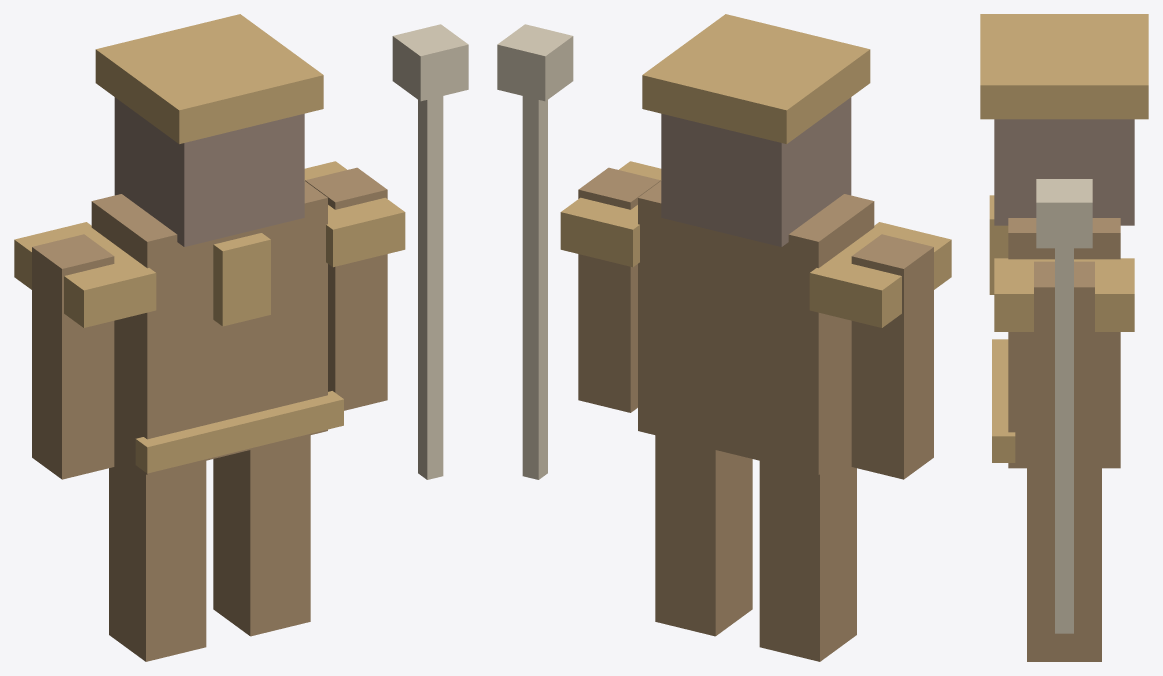
Rendered from 17_vexa_gantryn_tamer_under_scribes.glb.
3 views of the same model, side by side, from view 1: azimuth 30°, elevation 25°; view 2: azimuth 150°, elevation 25°; view 3: azimuth 270°, elevation 25° (orthographic).
Parts seen in each view (by area): view 1: Vexa Gantryn, Tamer under Scribes'; view 2: Vexa Gantryn, Tamer under Scribes'; view 3: Vexa Gantryn, Tamer under Scribes'.
Boxes of the visible parts, left/top/right/bottom form: Vexa Gantryn, Tamer under Scribes': left=14, top=14, right=468, bottom=661; Vexa Gantryn, Tamer under Scribes': left=497, top=14, right=951, bottom=661; Vexa Gantryn, Tamer under Scribes': left=980, top=14, right=1148, bottom=661.
Bounding box in the file's own units: 1.11 × 1.47 × 0.3923.
